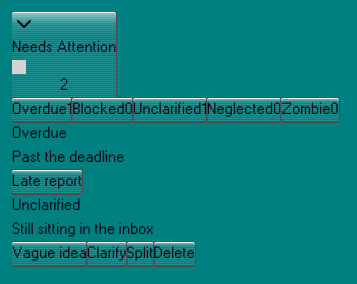
Test: NeedsAttention › hides a category and remembers it
Click the button with aria-label "Hide Unclarified" at (170,110), box [133,98,207,122]
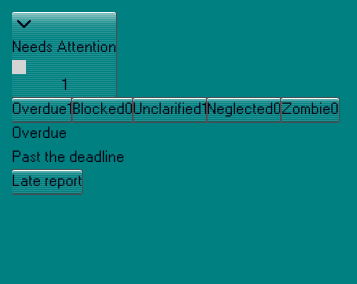
Expected: the button "Late report" is shown, [12,170,82,194]
Expected: the button "Vague idea" is gone
Click the button with aria-label "Show Unclarified" at (170,110), box [133,98,207,122]
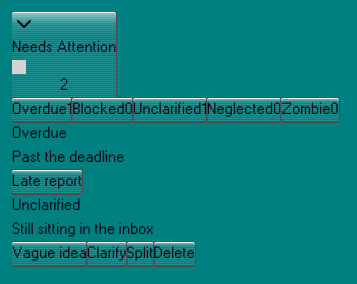
Expected: the button "Vague idea" is shown, [12,242,87,266]
